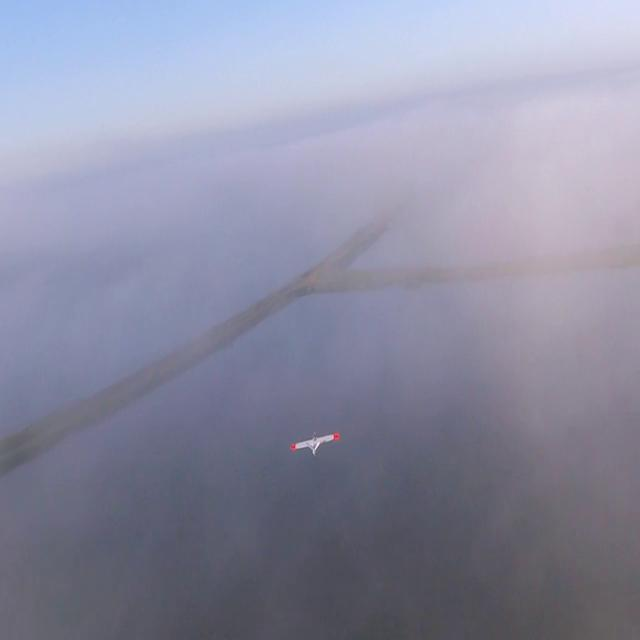iha: (290, 429, 341, 460)
